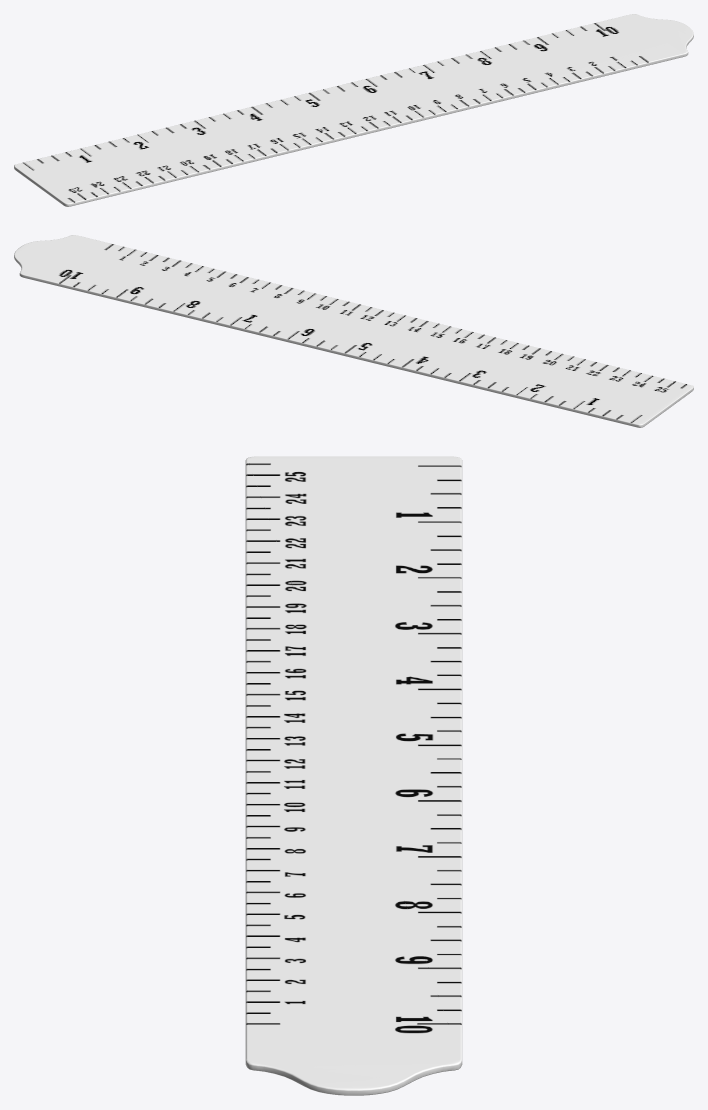
Rendered from arunangshubanerjee-scale-1599.glb.
The picture shows the model from 3 angles, top to bottom: view 1: azimuth 30°, elevation 25°; view 2: azimuth 150°, elevation 25°; view 3: azimuth 270°, elevation 25°; orthographic projection. The views are drawn at different scales.
Parts seen in each view (by area): view 1: empty_4; view 2: empty_4; view 3: empty_4.
Part boxes in pixels (left/top/right/bottom): empty_4: left=14, top=14, right=693, bottom=206; empty_4: left=14, top=235, right=693, bottom=427; empty_4: left=245, top=456, right=462, bottom=1095.
Size of the model in its own units: 0.2889 by 0.00142 by 0.0417.
1 material, 1 textured.
